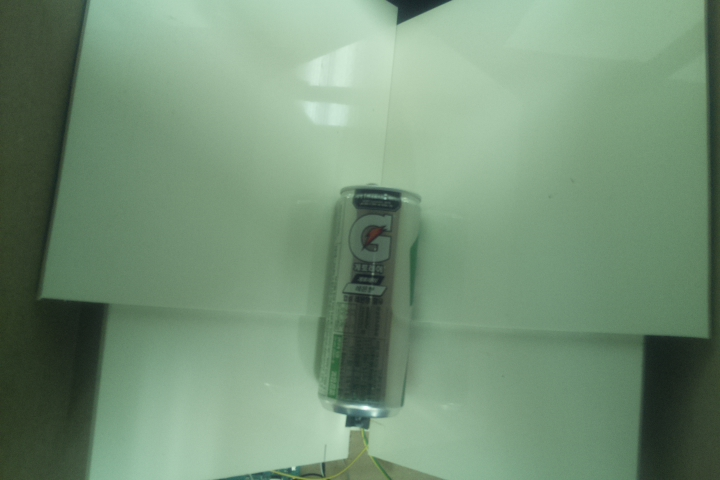can: (314, 181, 423, 418)
